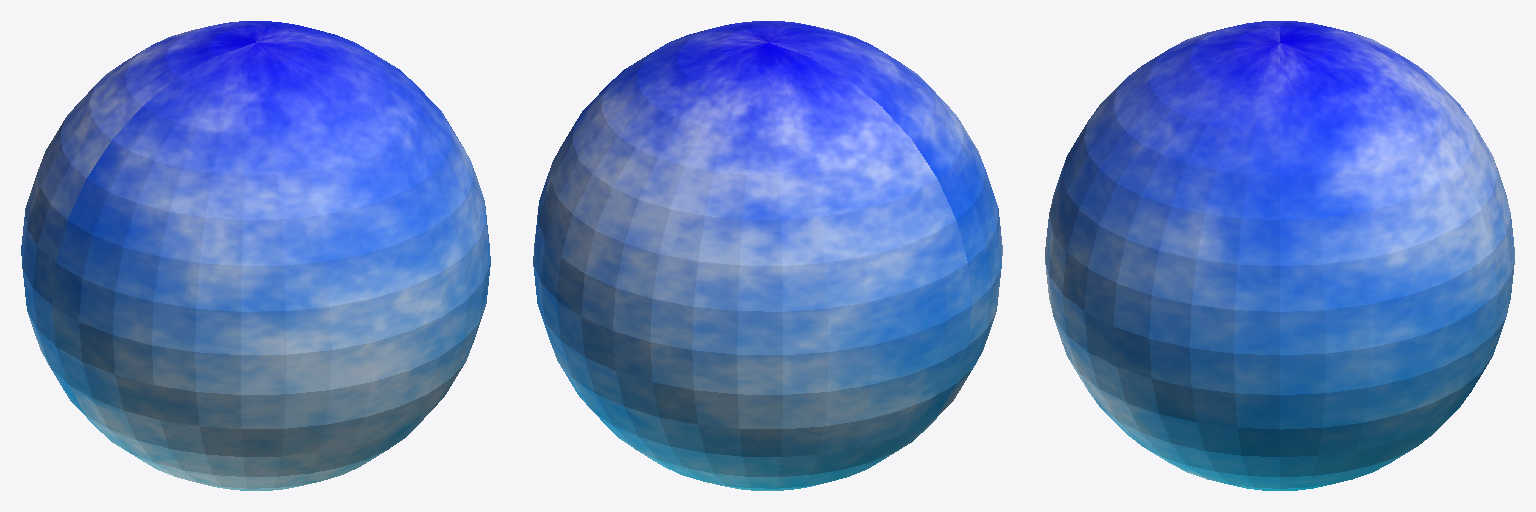
The picture shows the model from 3 angles: view 1: azimuth 30°, elevation 25°; view 2: azimuth 150°, elevation 25°; view 3: azimuth 270°, elevation 25°; orthographic projection.
Parts seen in each view (by area): view 1: 球.004; view 2: 球.004; view 3: 球.004.
Boxes of the visible parts, x1,y1,x2,y2 form: 球.004: [21, 21, 490, 490]; 球.004: [533, 21, 1002, 490]; 球.004: [1045, 21, 1514, 490].
Size of the model in its own units: 100 by 100 by 100.
Materials: 1 (1 with a texture image).